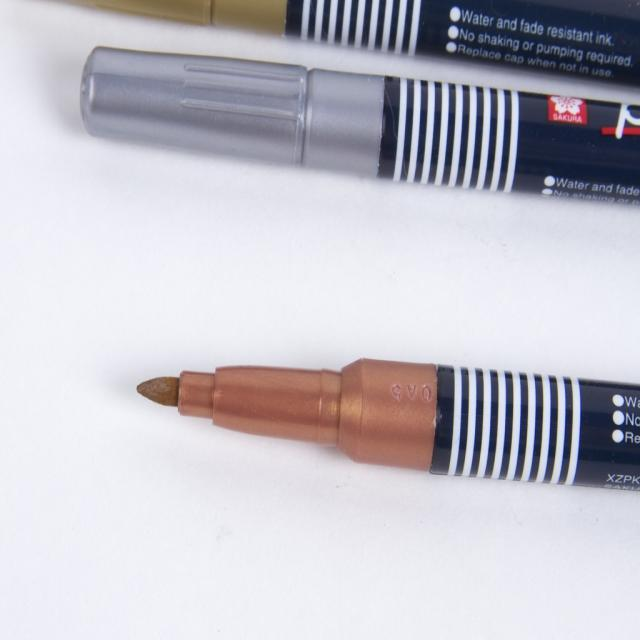pen: (77, 42, 639, 205), (136, 356, 640, 495), (53, 0, 640, 86)
